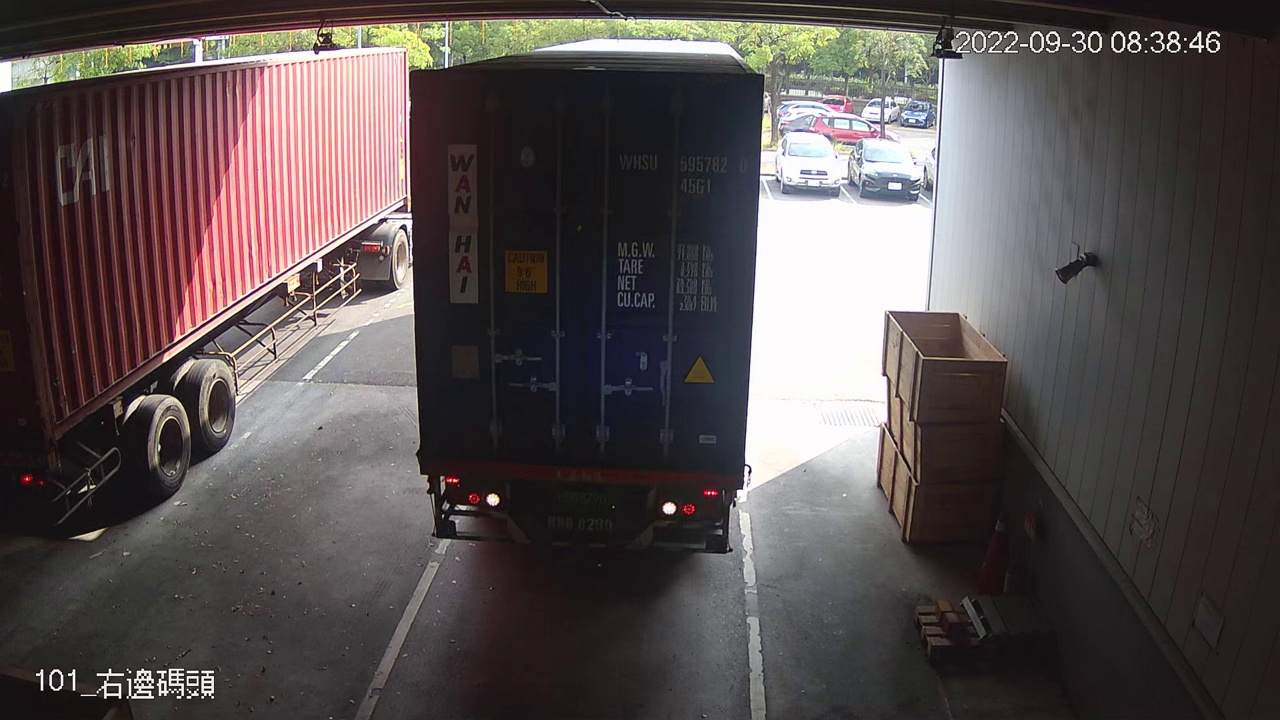container: (612, 145, 755, 201)
